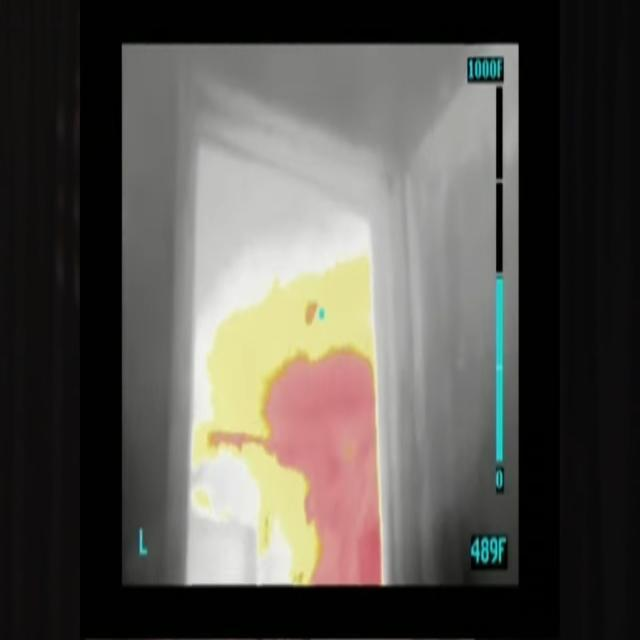fire: (192, 258, 384, 592)
